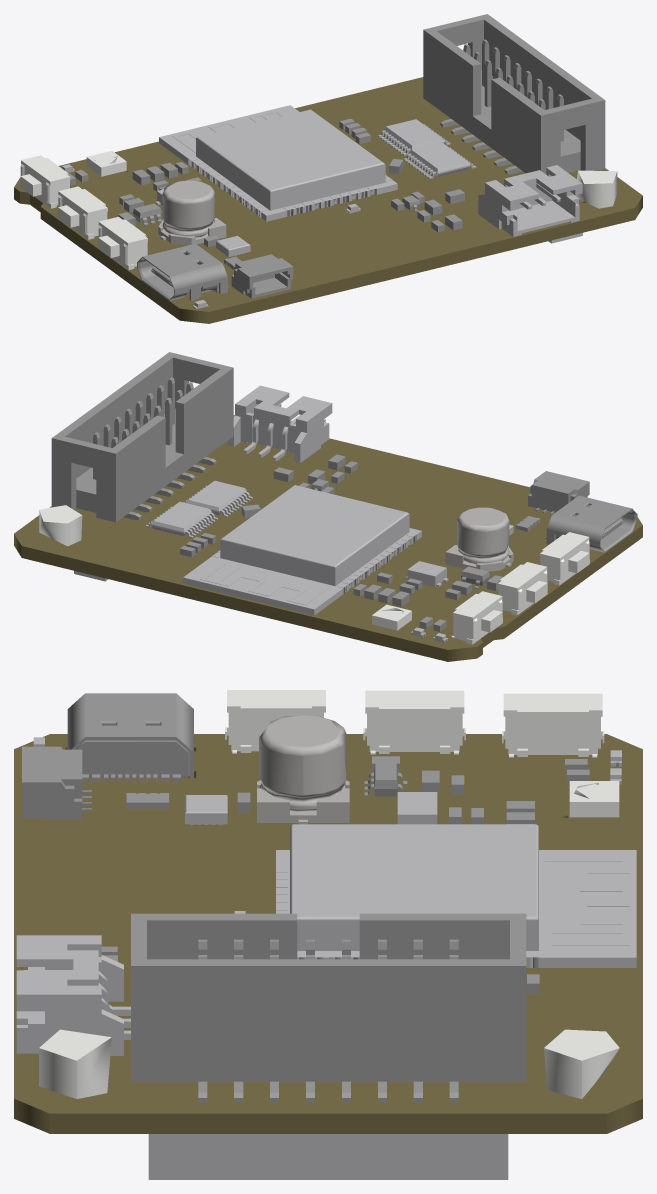
File: ada-5778.glb
3 renders of one model, top to bottom at view 1: azimuth 30°, elevation 25°; view 2: azimuth 150°, elevation 25°; view 3: azimuth 270°, elevation 25°, orthographic. The views are drawn at different scales.
Parts seen in each view (by area): view 1: 0.16666666666666666_0.16666666666666666_0.08333333333333333_, 0.3333333333333333_0.3333333333333333_0.3333333333333333_0, 0.5833333333333334_0.5833333333333334_0.5833333333333334_0.8, 0.9166666666666666_0.9166666666666666_0.9166666666666666_0.8, 0.5_0.5_0.5_0.85; view 2: 0.16666666666666666_0.16666666666666666_0.08333333333333333_, 0.3333333333333333_0.3333333333333333_0.3333333333333333_0, 0.5833333333333334_0.5833333333333334_0.5833333333333334_0.8, 0.9166666666666666_0.9166666666666666_0.9166666666666666_0.8, 0.5_0.5_0.5_0.85; view 3: 0.16666666666666666_0.16666666666666666_0.08333333333333333_, 0.3333333333333333_0.3333333333333333_0.3333333333333333_0, 0.5833333333333334_0.5833333333333334_0.5833333333333334_0.8, 0.9166666666666666_0.9166666666666666_0.9166666666666666_0.8, 0.5_0.5_0.5_0.85.
Part boxes in pixels (bbox=[...]): 0.16666666666666666_0.16666666666666666_0.08333333333333333_: bbox=[14, 77, 642, 323]; 0.3333333333333333_0.3333333333333333_0.3333333333333333_0: bbox=[68, 14, 605, 300]; 0.5833333333333334_0.5833333333333334_0.5833333333333334_0.8: bbox=[61, 105, 582, 309]; 0.9166666666666666_0.9166666666666666_0.9166666666666666_0.8: bbox=[20, 150, 617, 270]; 0.5_0.5_0.5_0.85: bbox=[158, 180, 226, 245]; 0.16666666666666666_0.16666666666666666_0.08333333333333333_: bbox=[14, 415, 642, 661]; 0.3333333333333333_0.3333333333333333_0.3333333333333333_0: bbox=[51, 352, 637, 631]; 0.5833333333333334_0.5833333333333334_0.5833333333333334_0.8: bbox=[74, 385, 621, 642]; 0.9166666666666666_0.9166666666666666_0.9166666666666666_0.8: bbox=[39, 505, 589, 644]; 0.5_0.5_0.5_0.85: bbox=[445, 507, 513, 571]; 0.16666666666666666_0.16666666666666666_0.08333333333333333_: bbox=[14, 734, 642, 1133]; 0.3333333333333333_0.3333333333333333_0.3333333333333333_0: bbox=[22, 693, 589, 1102]; 0.5833333333333334_0.5833333333333334_0.5833333333333334_0.8: bbox=[16, 737, 636, 1179]; 0.9166666666666666_0.9166666666666666_0.9166666666666666_0.8: bbox=[39, 690, 619, 1099]; 0.5_0.5_0.5_0.85: bbox=[257, 715, 349, 824].
Bounding box in the file's own units: 6.46 × 1.78 × 4.45.
